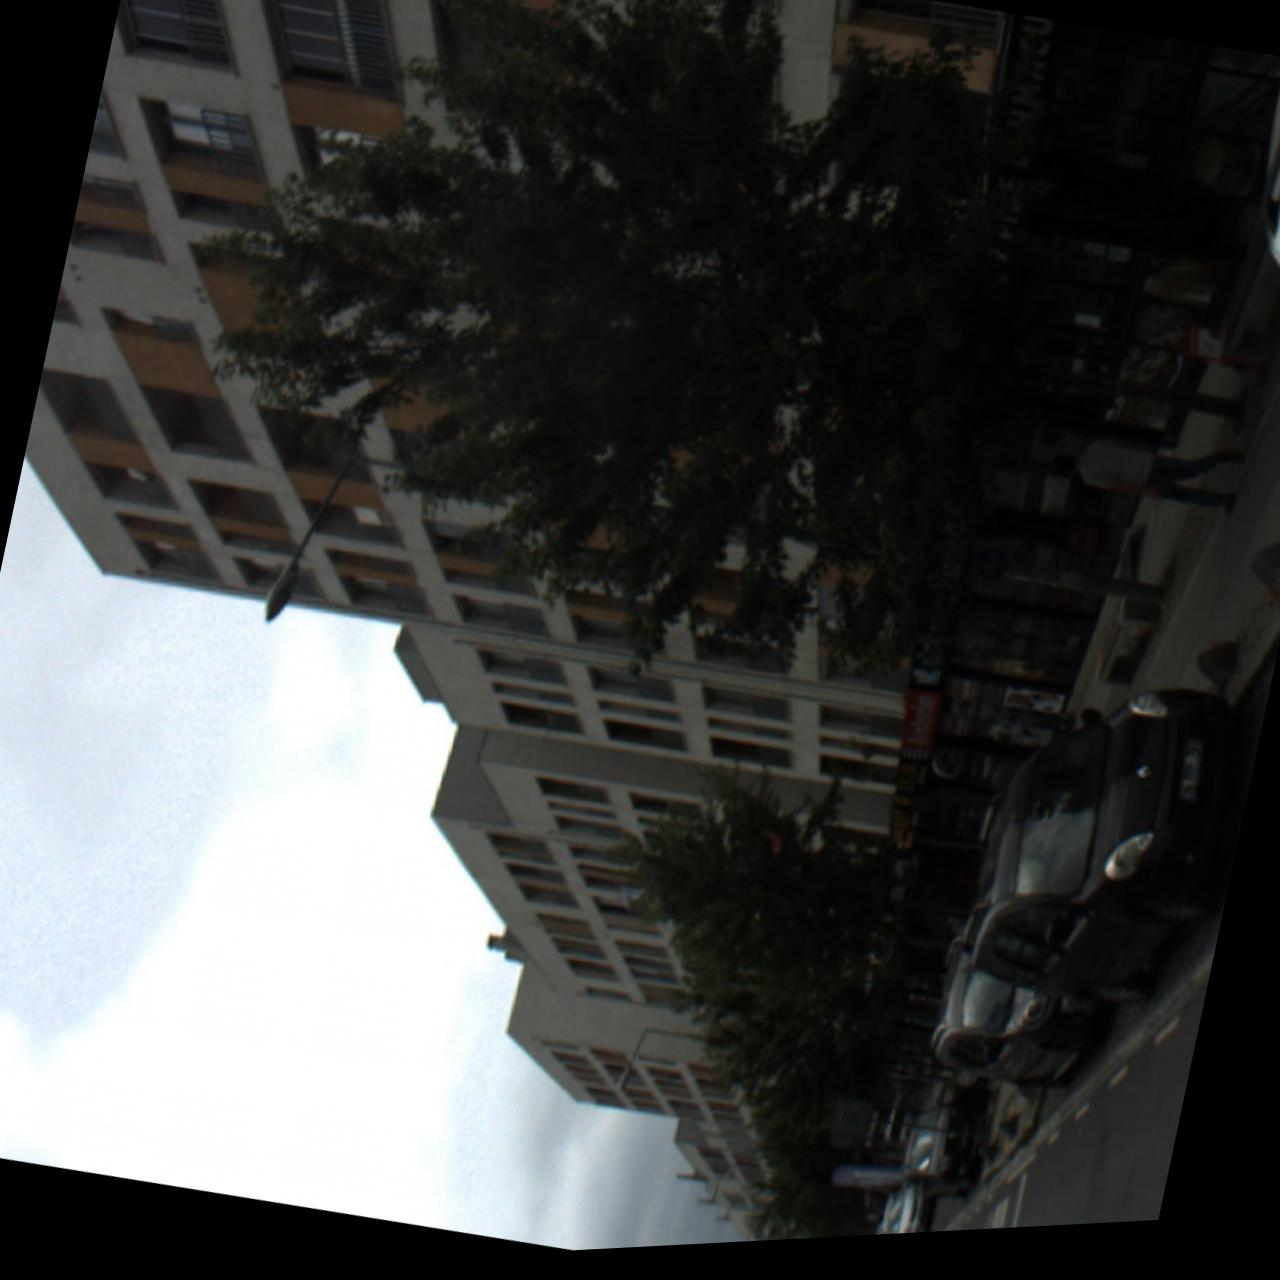SignStore: (968, 22, 1064, 259), (888, 767, 930, 862), (903, 696, 944, 762)
